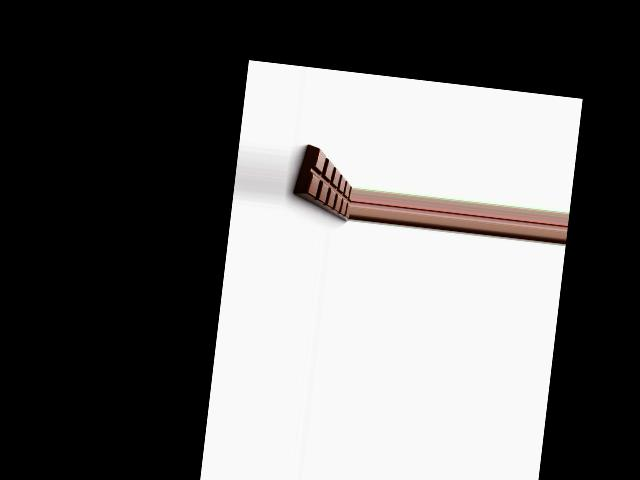chocolate: (288, 142, 356, 225)
